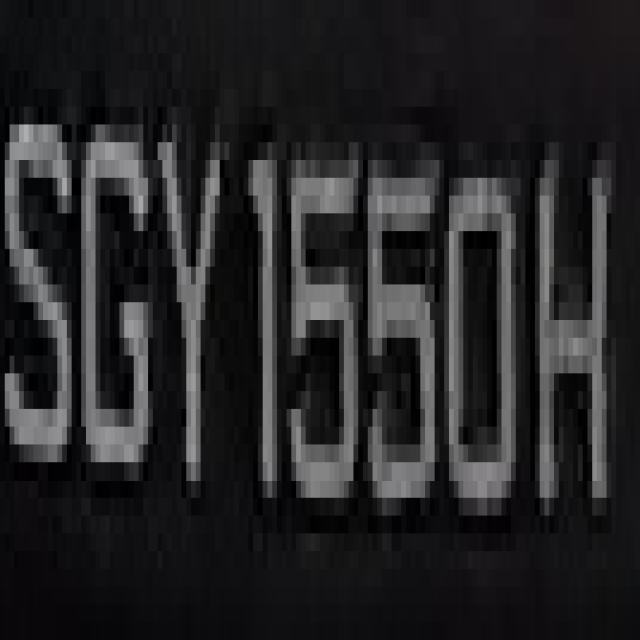0: (435, 107, 525, 569)
1: (244, 107, 282, 516)
5: (354, 89, 444, 587), (277, 107, 368, 551)
G: (67, 71, 157, 516)
H: (525, 89, 616, 569)
S: (9, 53, 76, 480)
Y: (143, 71, 230, 533)
